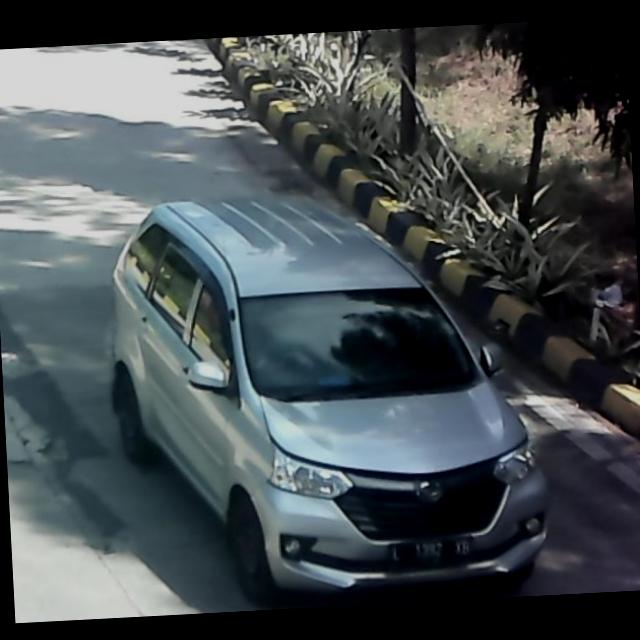plate: (387, 534, 476, 573)
